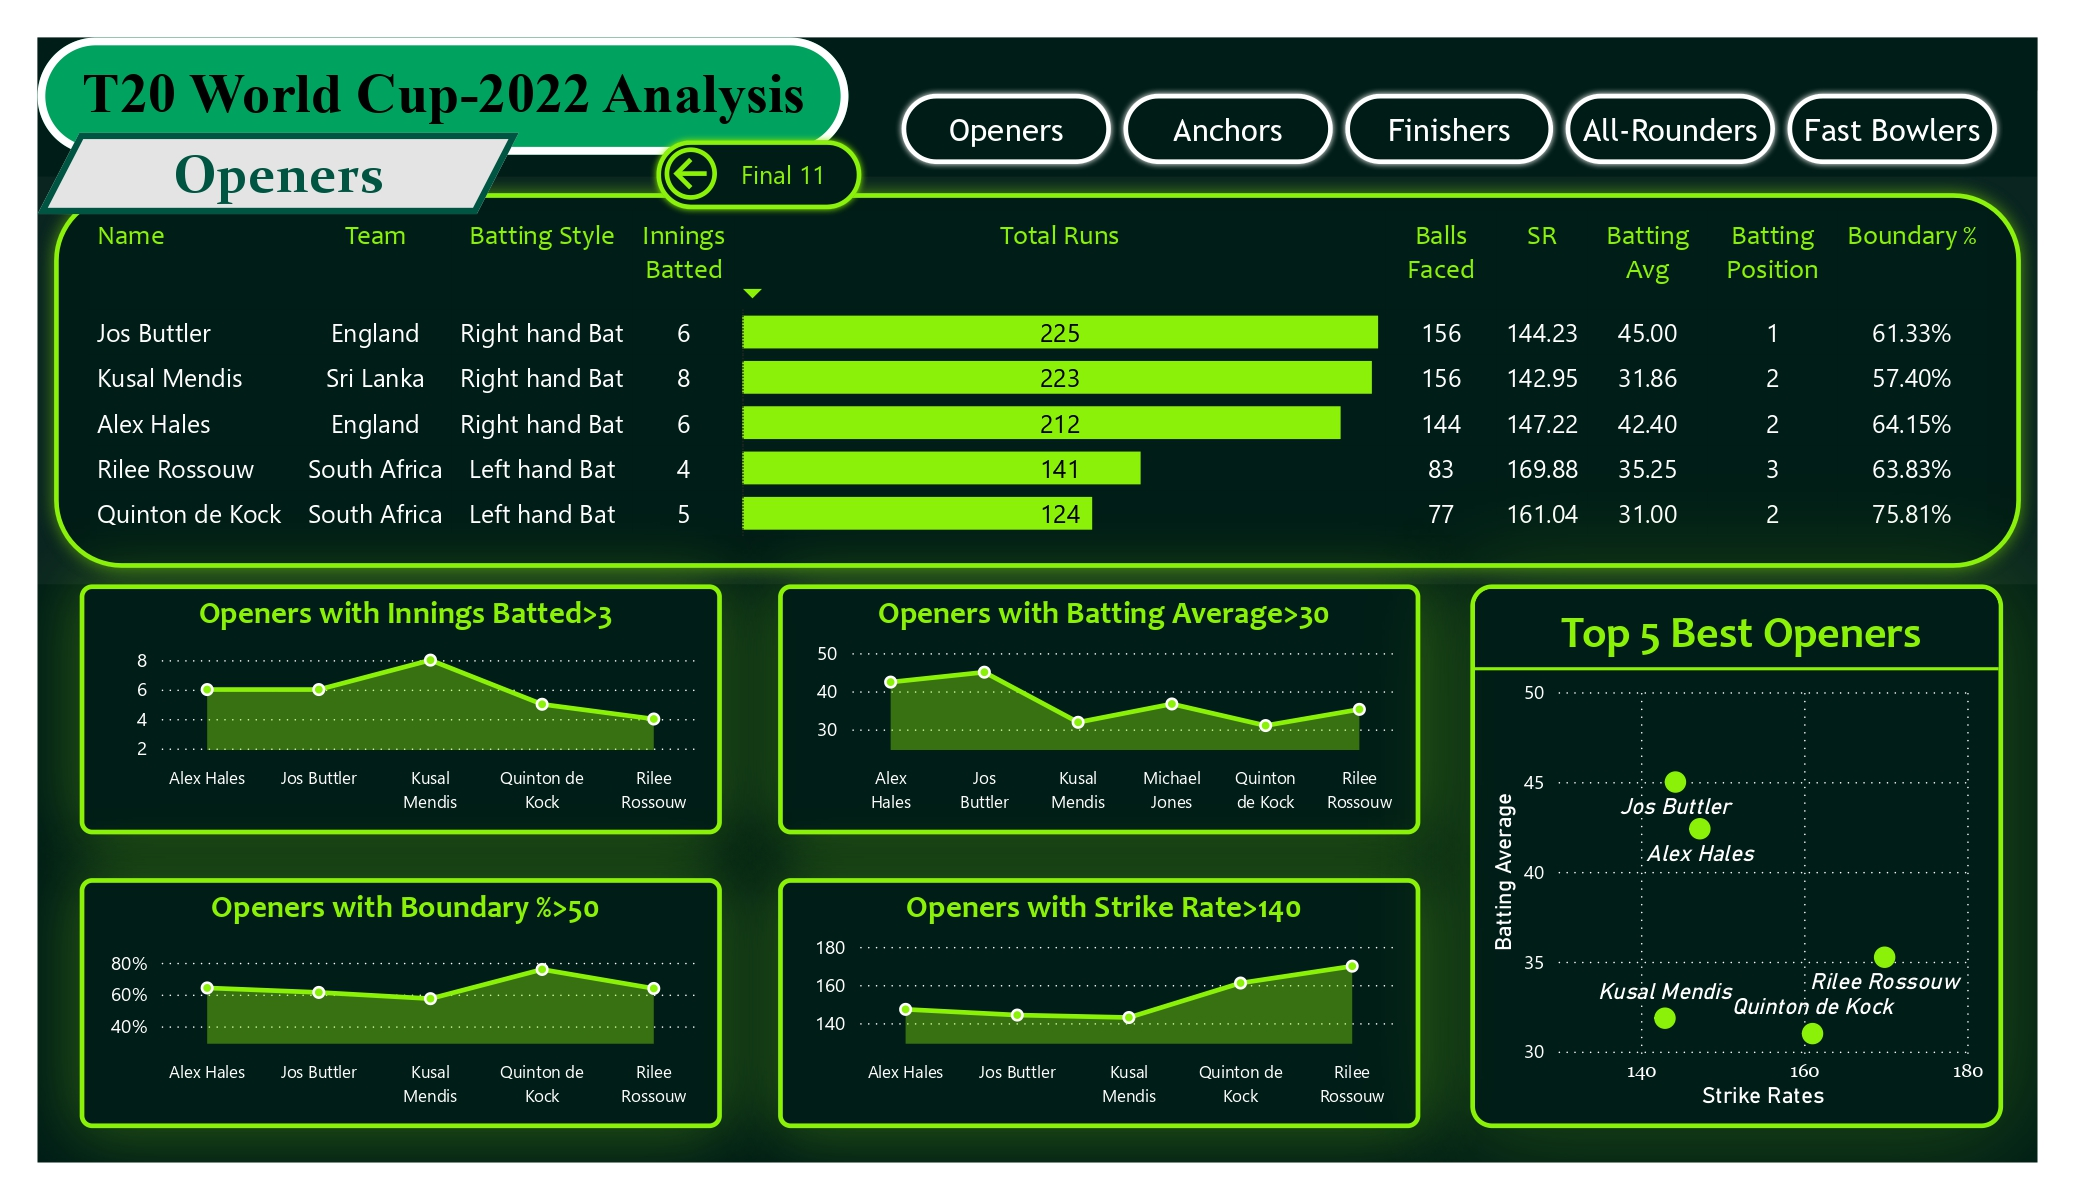

The page's visual inventory and layout, read from the dashboard file:
{"tool":"powerbi","page":{"name":"Openers","canvas":[1280,720],"ordinal":0},"visuals":[{"type":"shape","box":[0,0,519,75.2],"z":0},{"type":"shape","box":[0,88.6,1280,261.4],"z":1000},{"type":"tableEx","fields":{"Values":["dim_players.name","dim_players.team","dim_players.battingStyle","Key measures.Total Innings Batted","Key measures.Total Runs","Key measures.Total Balls Faced","Key measures.Strike rate","Key measures.Batting Avg","Key measures.Batting Position","Key measures.Boundary %"]},"box":[27.5,105.5,1230.4,228.4],"z":2000},{"type":"stackedAreaChart","title":"Openers with Batting Average>30","fields":{"Category":["dim_players.name"],"Y":["Key measures.Batting Avg"]},"box":[474.2,349.9,410.6,160.5],"z":3000},{"type":"stackedAreaChart","title":"Openers with Innings Batted>3","fields":{"Category":["dim_players.name"],"Y":["Key measures.Total Innings Batted"]},"box":[27.5,349.9,410.6,160.5],"z":4000},{"type":"stackedAreaChart","title":"Openers with Boundary %>50","fields":{"Category":["dim_players.name"],"Y":["Key measures.Boundary %"]},"box":[27.5,537.8,410.6,160.5],"z":5000},{"type":"stackedAreaChart","title":"Openers with Strike Rate>140","fields":{"Category":["dim_players.name"],"Y":["Key measures.Strike rate"]},"box":[474.2,537.8,410.6,160.5],"z":6000},{"type":"scatterChart","title":"Top 5 Best Openers","fields":{"X":["Key measures.Strike rate"],"Y":["Key measures.Batting Avg"],"Category":["dim_players.name"]},"box":[916.6,349.9,341.2,348.4],"z":7000},{"type":"shape","box":[7.2,5.8,506,62.2],"z":8000},{"type":"shape","box":[0,60.7,308,52],"z":9000},{"type":"actionButton","box":[549.4,31.8,141.7,53.5],"z":10000},{"type":"actionButton","box":[691.1,31.8,141.7,53.5],"z":11000},{"type":"actionButton","box":[832.8,31.8,141.7,53.5],"z":12000},{"type":"actionButton","box":[974.5,31.8,141.7,53.5],"z":13000},{"type":"actionButton","box":[1116.1,31.8,141.7,53.5],"z":14000},{"type":"actionButton","box":[391.8,60.7,140.2,53.5],"z":15000}]}

Visuals, with their boxes on the page's 1280x720 design canvas (x1, y1, x2, y2). These are canvas units, not pixel positions in the 2075x1200 screenshot, which may show the page scaled, cropped or inside an application window:
shape: (0, 0, 519, 75)
shape: (0, 89, 1280, 350)
tableEx - dim_players.name x dim_players.team: (28, 106, 1258, 334)
"Openers with Batting Average>30" stackedAreaChart: (474, 350, 885, 510)
"Openers with Innings Batted>3" stackedAreaChart: (28, 350, 438, 510)
"Openers with Boundary %>50" stackedAreaChart: (28, 538, 438, 698)
"Openers with Strike Rate>140" stackedAreaChart: (474, 538, 885, 698)
"Top 5 Best Openers" scatterChart: (917, 350, 1258, 698)
shape: (7, 6, 513, 68)
shape: (0, 61, 308, 113)
actionButton: (549, 32, 691, 85)
actionButton: (691, 32, 833, 85)
actionButton: (833, 32, 974, 85)
actionButton: (974, 32, 1116, 85)
actionButton: (1116, 32, 1258, 85)
actionButton: (392, 61, 532, 114)
